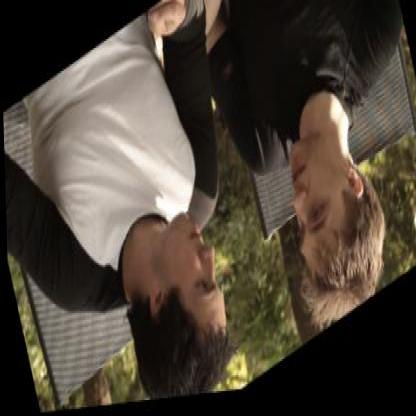knife: (265, 0, 318, 12)
